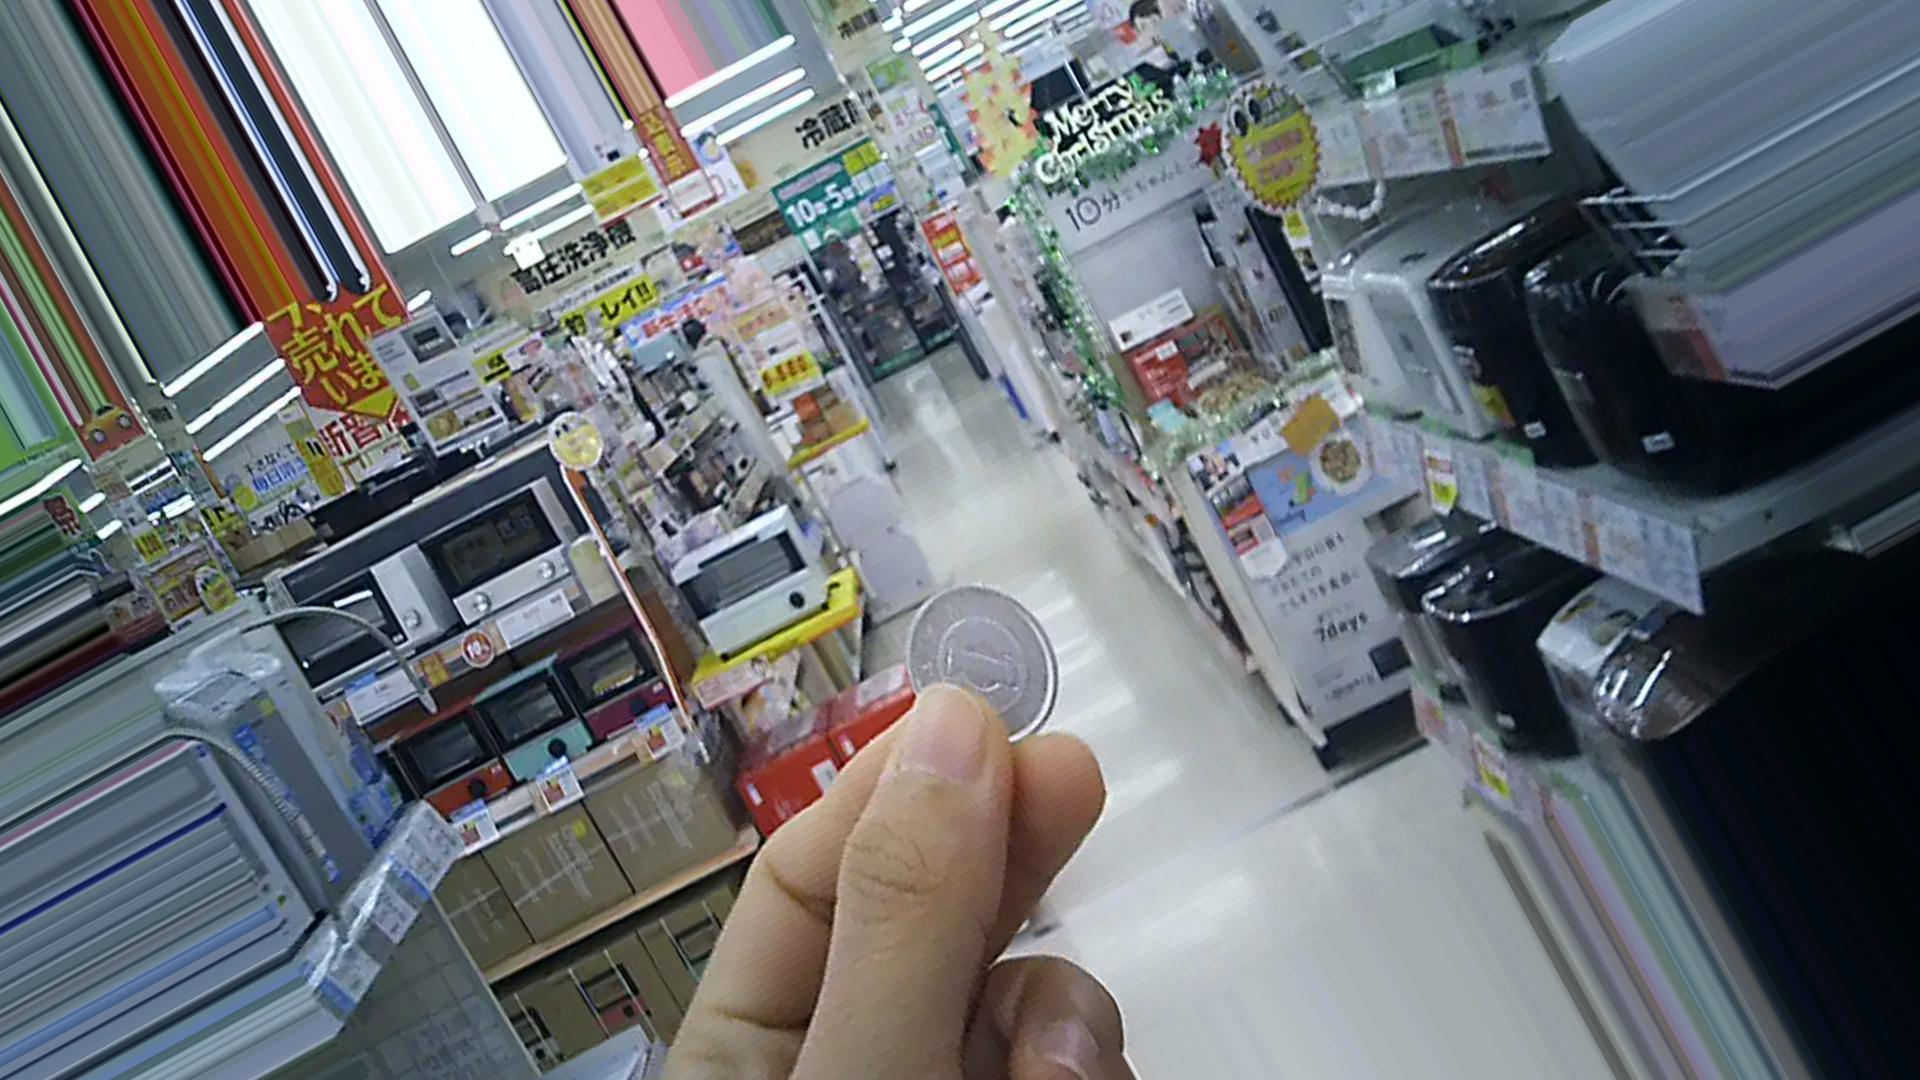1 Yen: (910, 587, 1060, 749)
